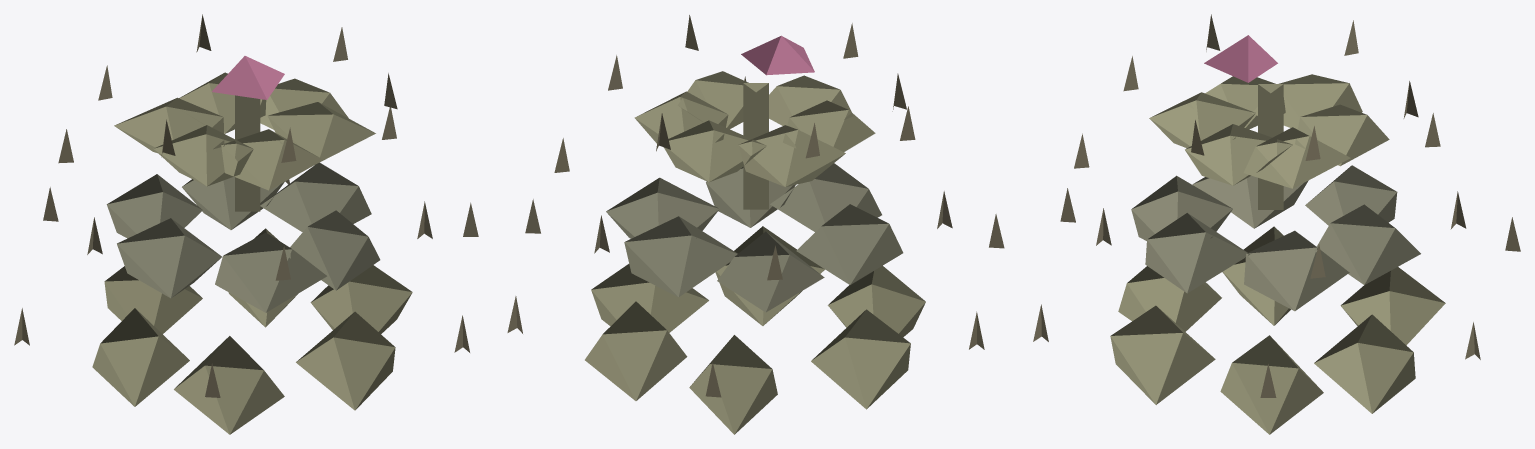
Rendered from shrub.trop.desert_succulent__winter.glb.
The picture shows the model from 3 angles, left to right: view 1: azimuth 30°, elevation 25°; view 2: azimuth 150°, elevation 25°; view 3: azimuth 270°, elevation 25°; orthographic projection.
Visible parts, largest first — view 1: shrub.trop.desert_succulent__winter; view 2: shrub.trop.desert_succulent__winter; view 3: shrub.trop.desert_succulent__winter.
Boxes of the visible parts, left/top/right/bottom form: shrub.trop.desert_succulent__winter: left=14, top=14, right=478, bottom=434; shrub.trop.desert_succulent__winter: left=507, top=15, right=1004, bottom=434; shrub.trop.desert_succulent__winter: left=1033, top=14, right=1520, bottom=434.
Size of the model in its own units: 1.8 by 1.26 by 1.64.
